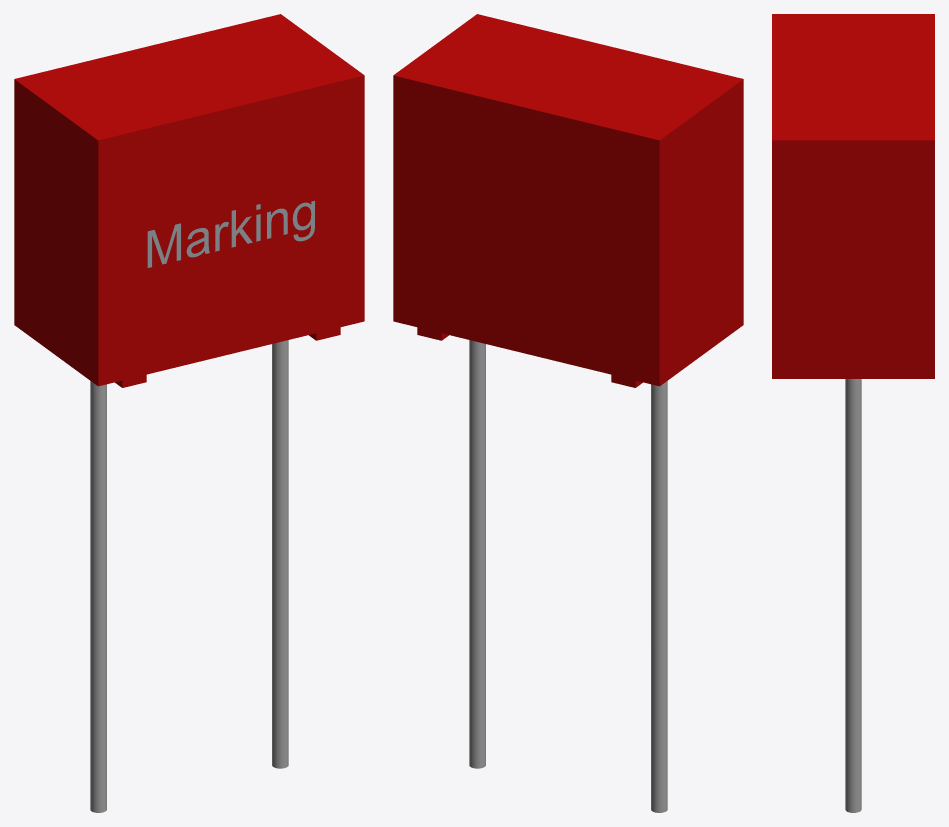
The model's file is WCAP-FTXX Film Capacitors.gltf.
The picture shows the model from 3 angles, left to right: view 1: azimuth 30°, elevation 25°; view 2: azimuth 150°, elevation 25°; view 3: azimuth 270°, elevation 25°; orthographic projection. The views are drawn at different scales.
Parts seen in each view (by area): view 1: Shell, Body; view 2: Shell, Body; view 3: Shell, Body.
Boxes of the visible parts, left/top/right/bottom form: Shell: left=14, top=14, right=364, bottom=387; Body: left=90, top=340, right=288, bottom=812; Shell: left=393, top=14, right=743, bottom=387; Body: left=469, top=340, right=667, bottom=812; Shell: left=772, top=14, right=934, bottom=378; Body: left=845, top=379, right=861, bottom=812.
Size of the model in its own units: 0.011 by 0.028 by 0.006.
